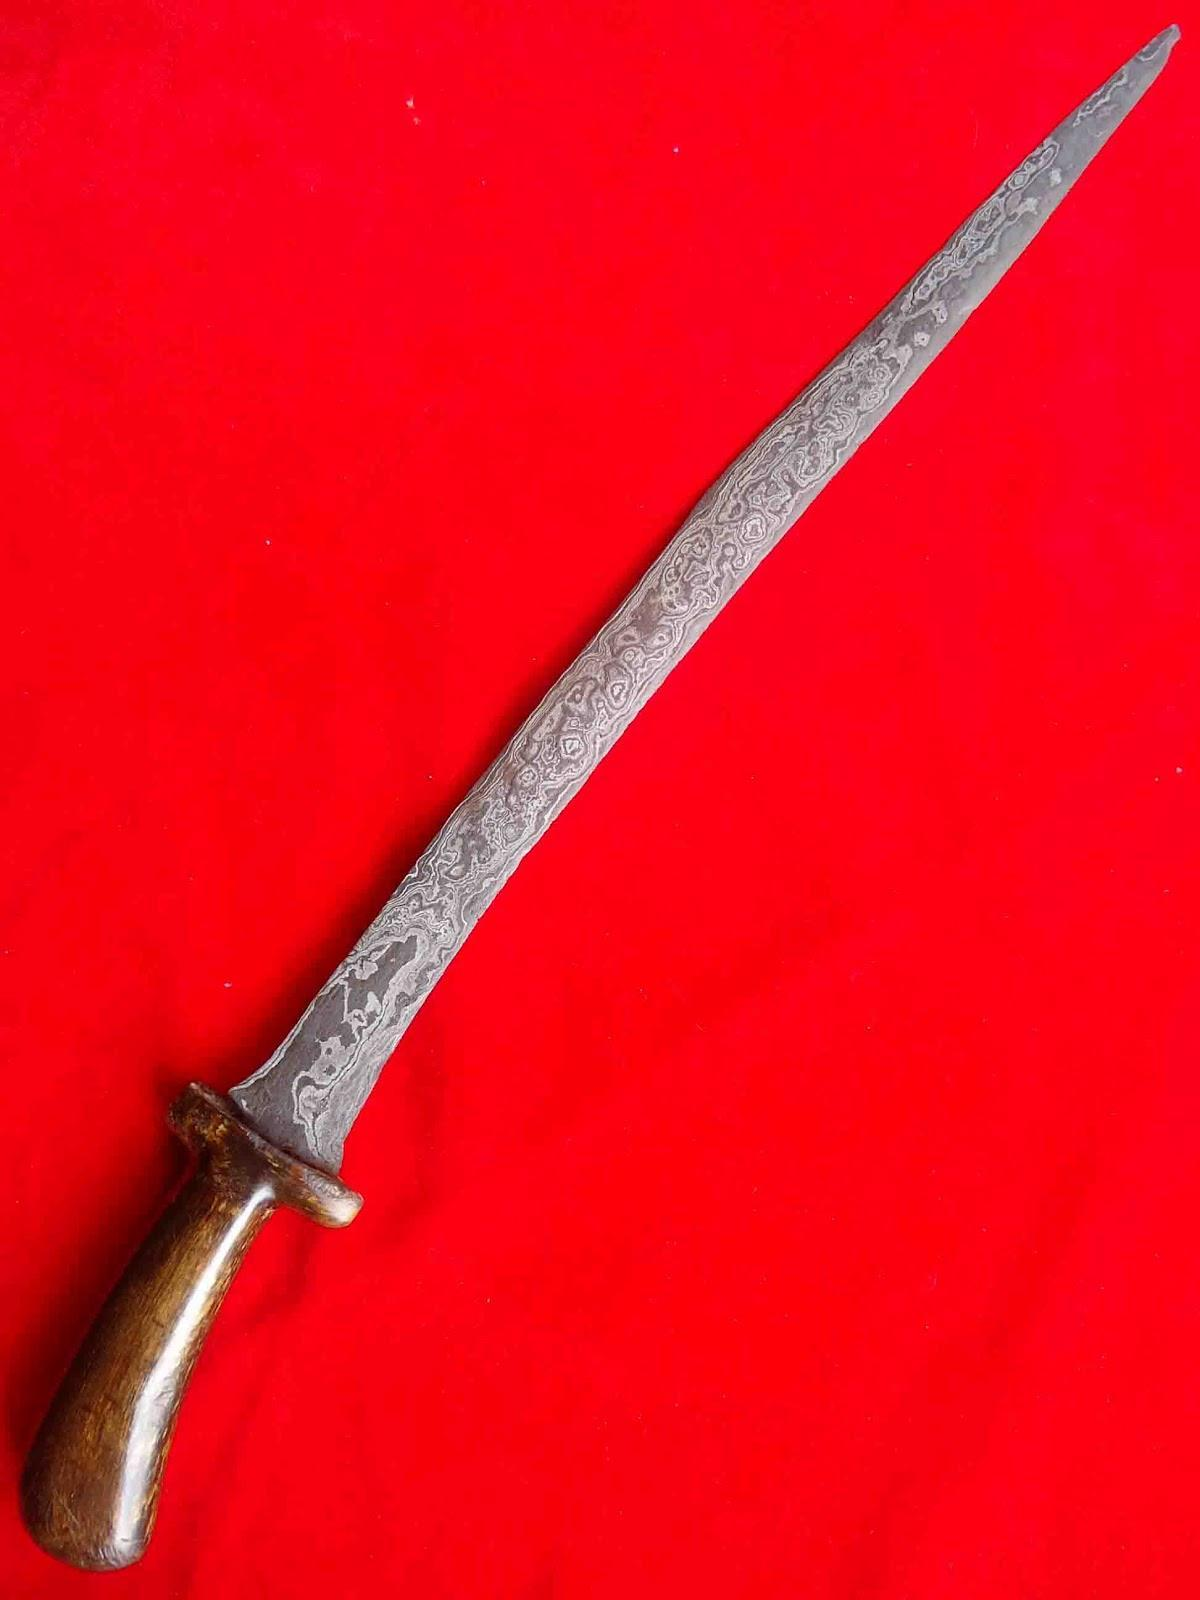espada: (8, 13, 1192, 1577)
